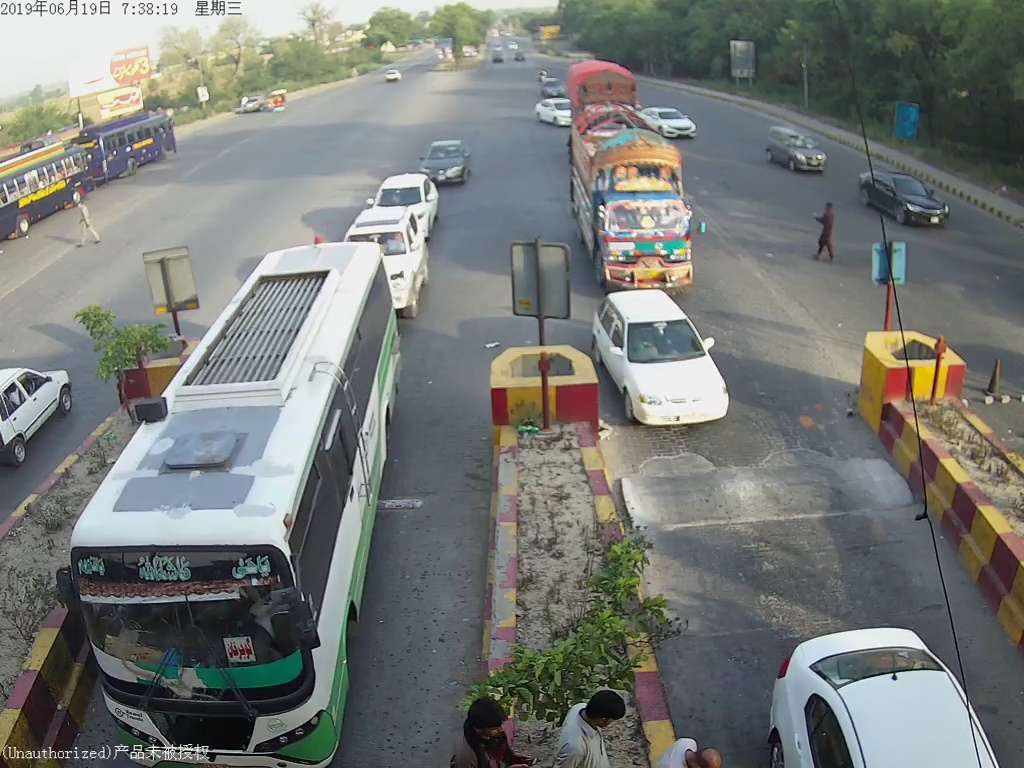Cat-1: (594, 289, 730, 422), (353, 208, 441, 310), (860, 161, 955, 234), (374, 170, 447, 233), (769, 124, 829, 173), (419, 134, 472, 181)
Cat-3: (71, 230, 402, 760)
Cat-4: (565, 110, 700, 289)
